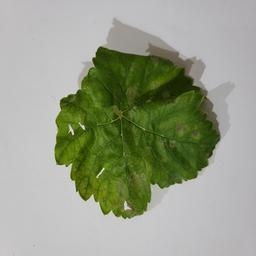Powdery-Mildew: (123, 66, 176, 128), (84, 84, 113, 143), (125, 154, 152, 198), (164, 114, 208, 139), (102, 183, 125, 213)
